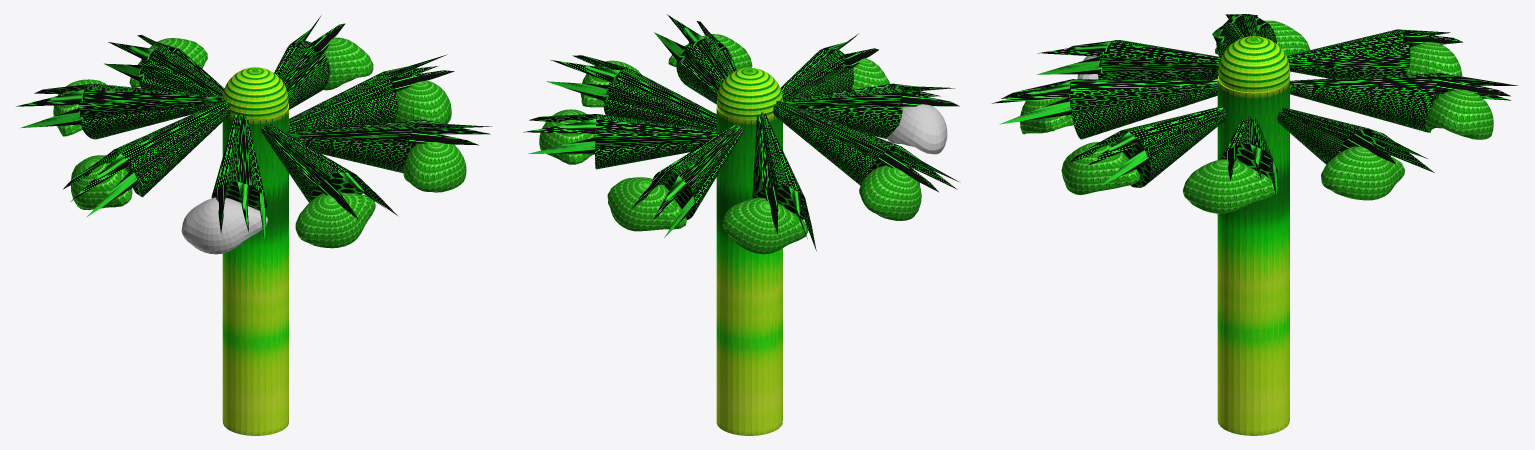
The model's file is WATERWHEEL.dae.
3 views of the same model, side by side, from view 1: azimuth 30°, elevation 25°; view 2: azimuth 150°, elevation 25°; view 3: azimuth 270°, elevation 25° (orthographic). The views are drawn at different scales.
Visible parts, largest first — view 1: Cylinder; view 2: Cylinder; view 3: Cylinder.
Boxes of the visible parts, x1,y1,x2,y2 form: Cylinder: (16, 15, 491, 435); Cylinder: (523, 14, 960, 435); Cylinder: (992, 14, 1518, 435).
Bounding box in the file's own units: 13.75 × 14.72 × 11.67.
